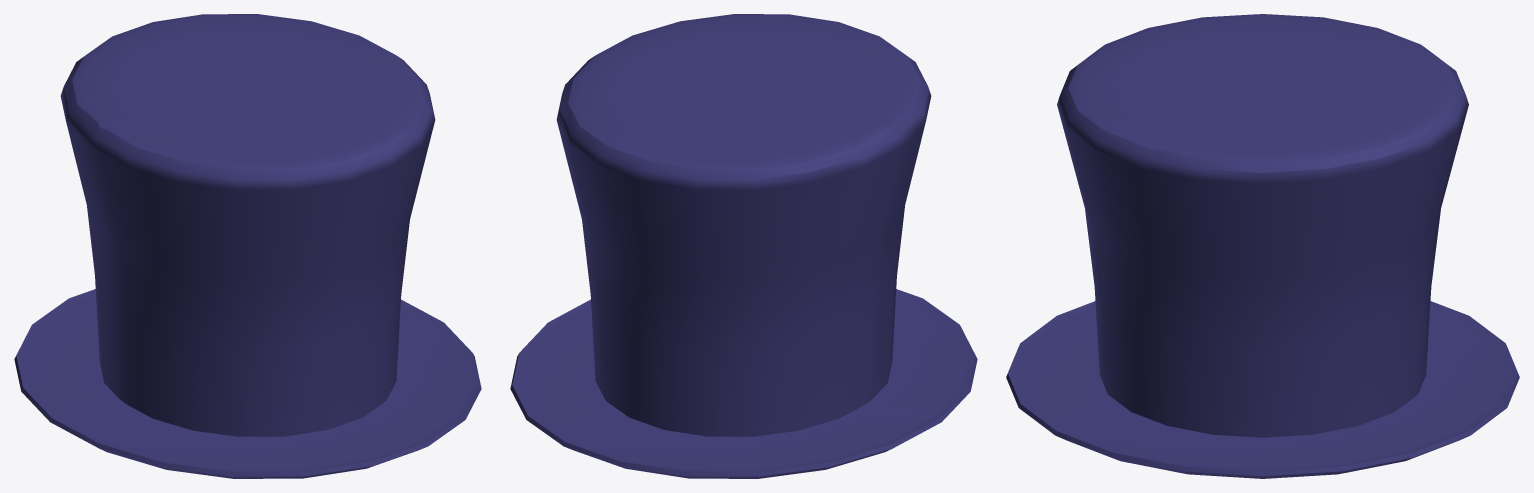
File: tophat.fbx
3 renders of one model, left to right at view 1: azimuth 30°, elevation 25°; view 2: azimuth 150°, elevation 25°; view 3: azimuth 270°, elevation 25°, orthographic. The views are drawn at different scales.
Visible parts, largest first — view 1: pCylinder1; view 2: pCylinder1; view 3: pCylinder1.
Part boxes in pixels (left/top/right/bottom): pCylinder1: left=14, top=14, right=481, bottom=478; pCylinder1: left=510, top=14, right=977, bottom=478; pCylinder1: left=1006, top=14, right=1519, bottom=478.
Size of the model in its own units: 216 by 153 by 237.
